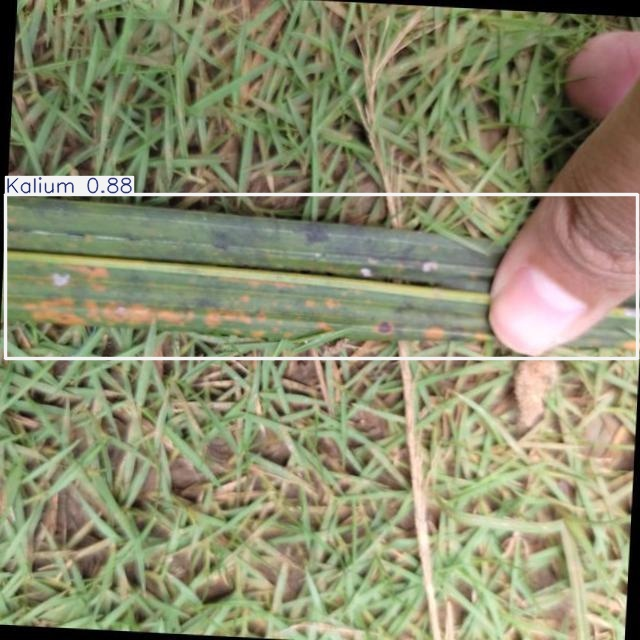Kalium: (5, 195, 638, 358)
